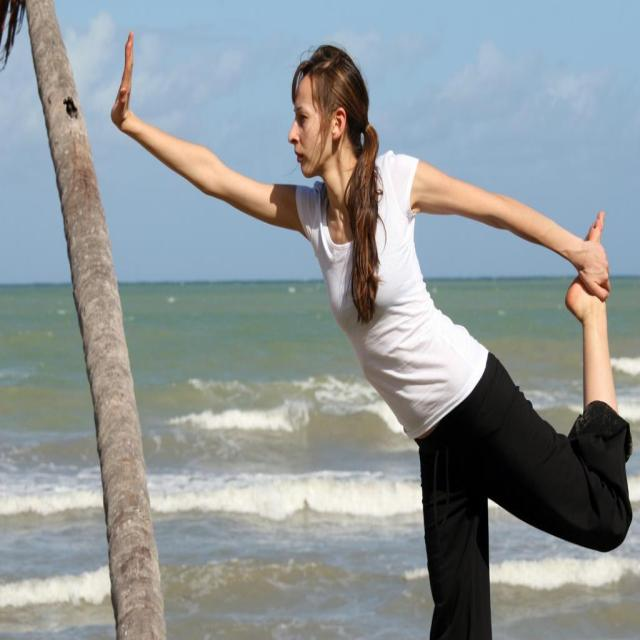Face: (283, 70, 339, 184)
